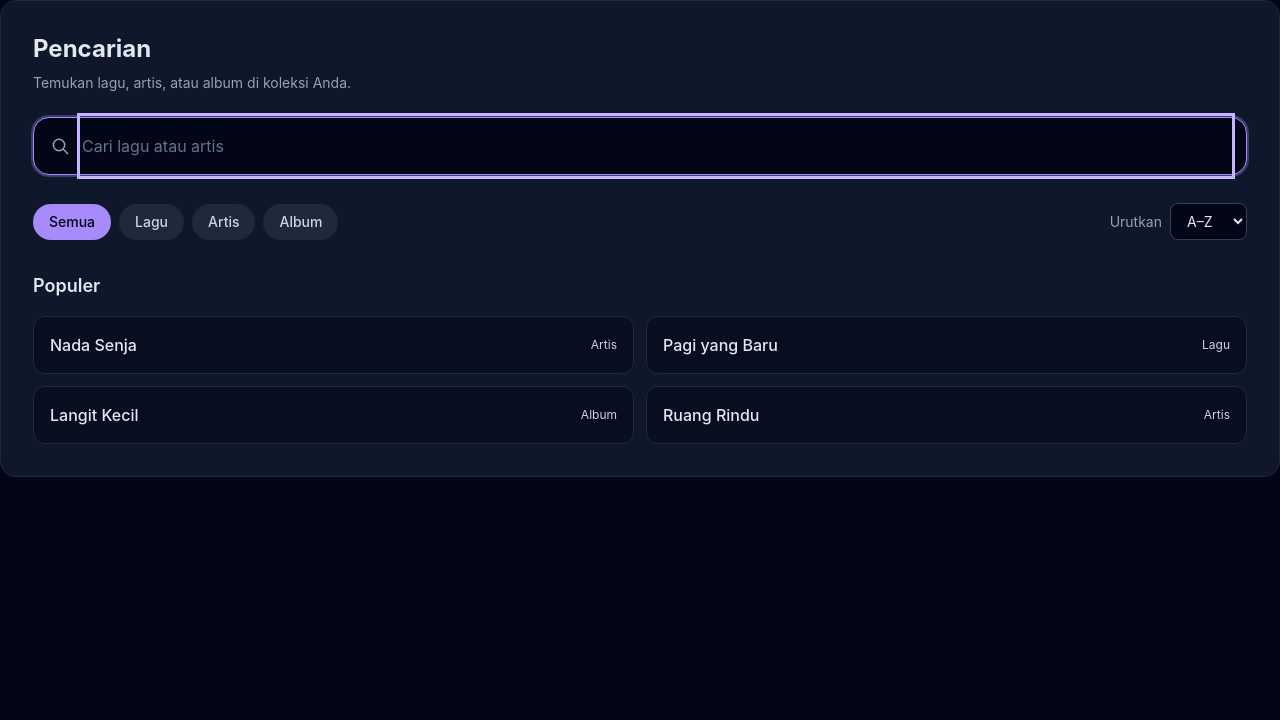
Test: Search › shows the empty state when no results match the search
Type "Tidak ada kecocokan" into the dropdown labelled "Cari lagu atau artis". click: coordinates (656, 146)
box: x1=82 y1=118 x2=1230 y2=174
Wait 300 ms
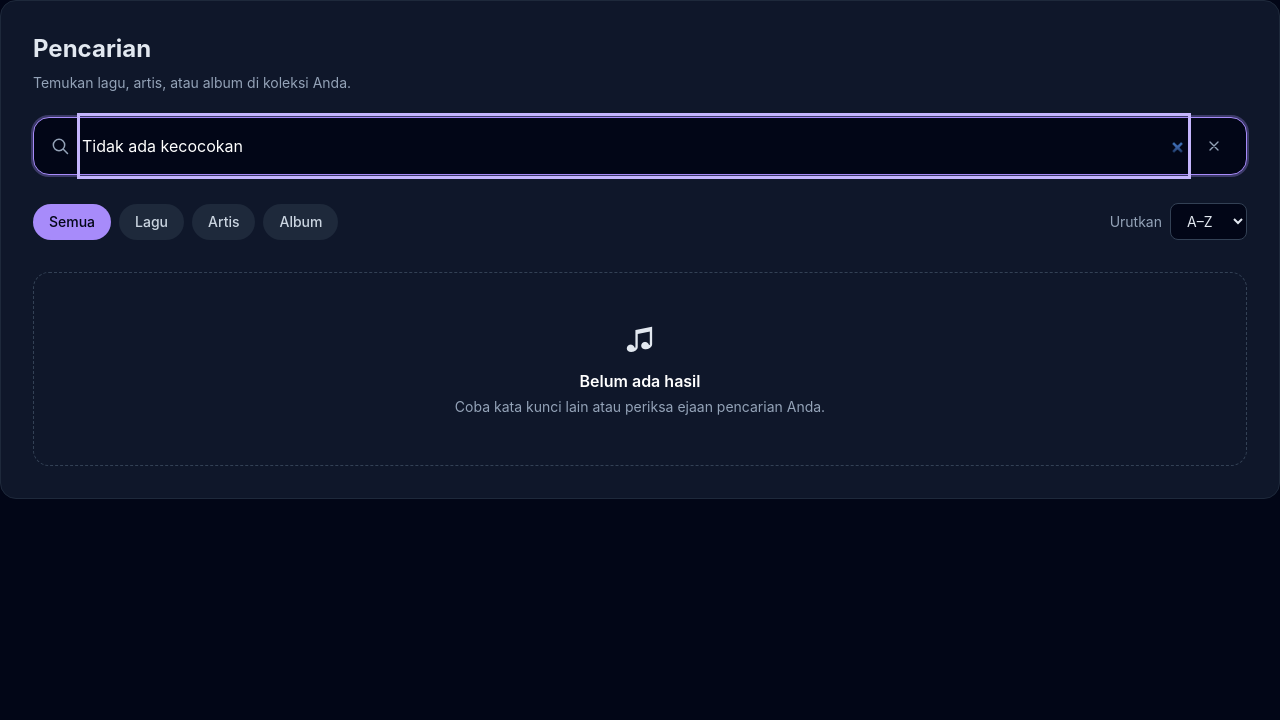
Check: the heading "Belum ada hasil" is shown, box x1=580 y1=371 x2=700 y2=391
